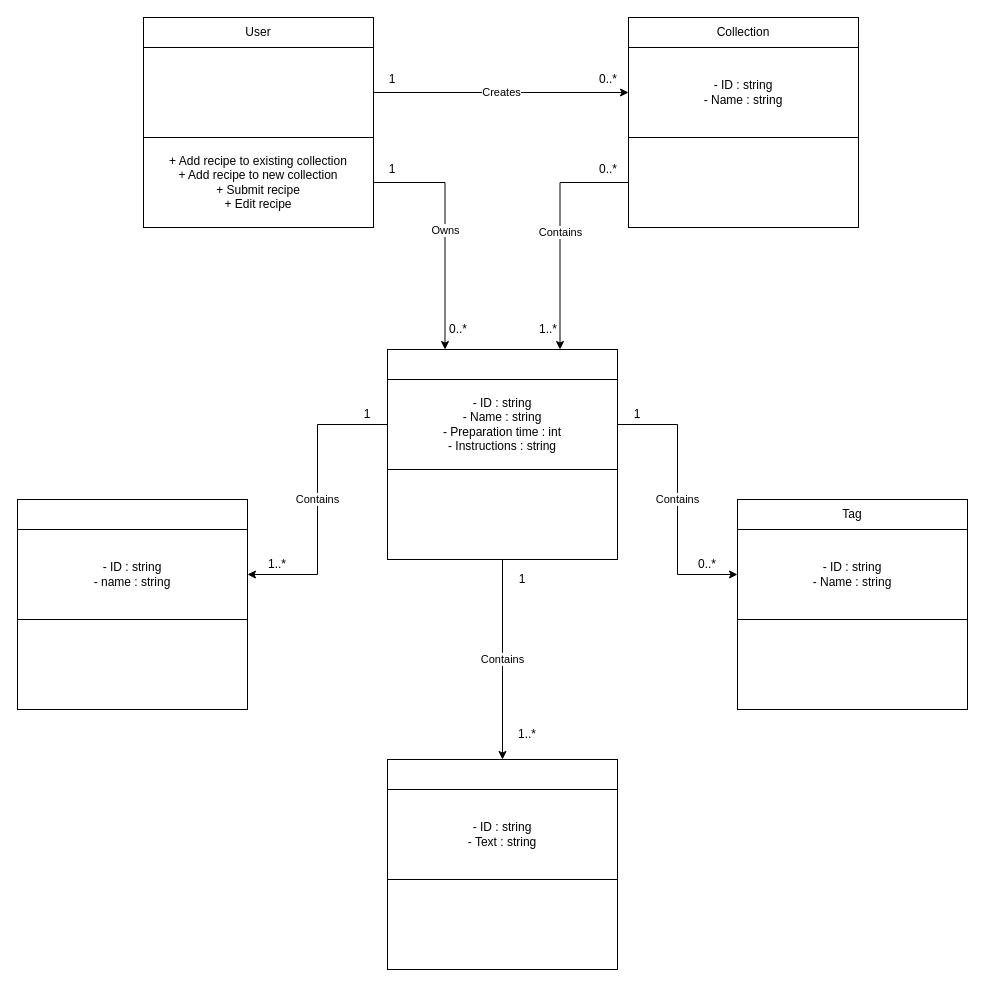
The diagram is 985 pixels wide and 987 high, and some of its shapes have lost their labels. The centre of each missing label's shape, as x and y in pixels:
"- ID : string - email : string - password : hashed string - isAmin : bool" goes at point 258,92.
"Ingredient" goes at point 132,514.
"Instruction" goes at point 502,774.
"Recipe" goes at point 502,364.
